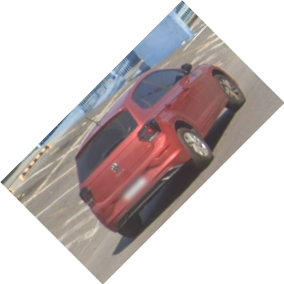car: (71, 58, 249, 242)
